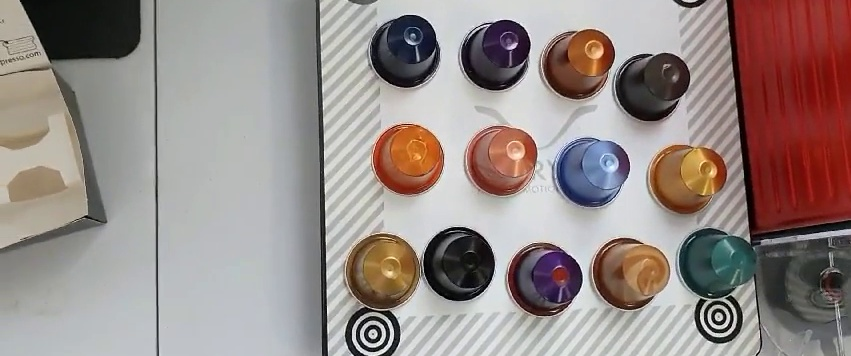capsule_1: (369, 13, 445, 87)
capsule_10: (420, 225, 495, 301)
capsule_11: (507, 241, 584, 320)
capsule_12: (590, 237, 671, 309)
capsule_13: (678, 227, 755, 302)
capsule_2: (456, 20, 530, 90)
capsule_3: (540, 26, 612, 103)
capsule_4: (614, 51, 687, 125)
capsule_5: (371, 120, 444, 199)
capsule_6: (462, 124, 538, 195)
capsule_7: (550, 134, 626, 209)
capsule_8: (647, 141, 726, 216)
capsule_9: (339, 232, 419, 310)
